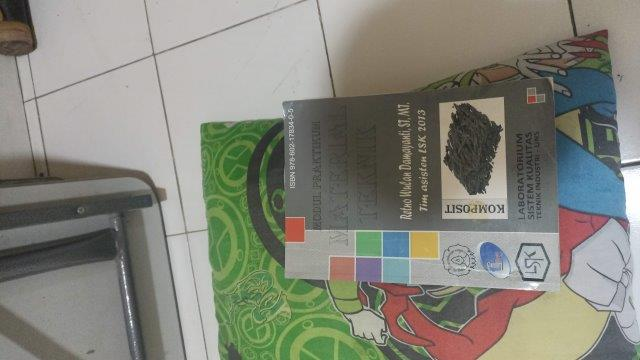kertas: (284, 77, 559, 291)
